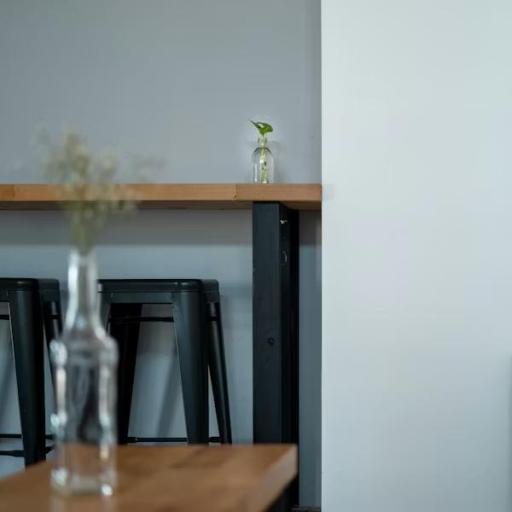bottle: (36, 246, 130, 508), (246, 126, 282, 197)
